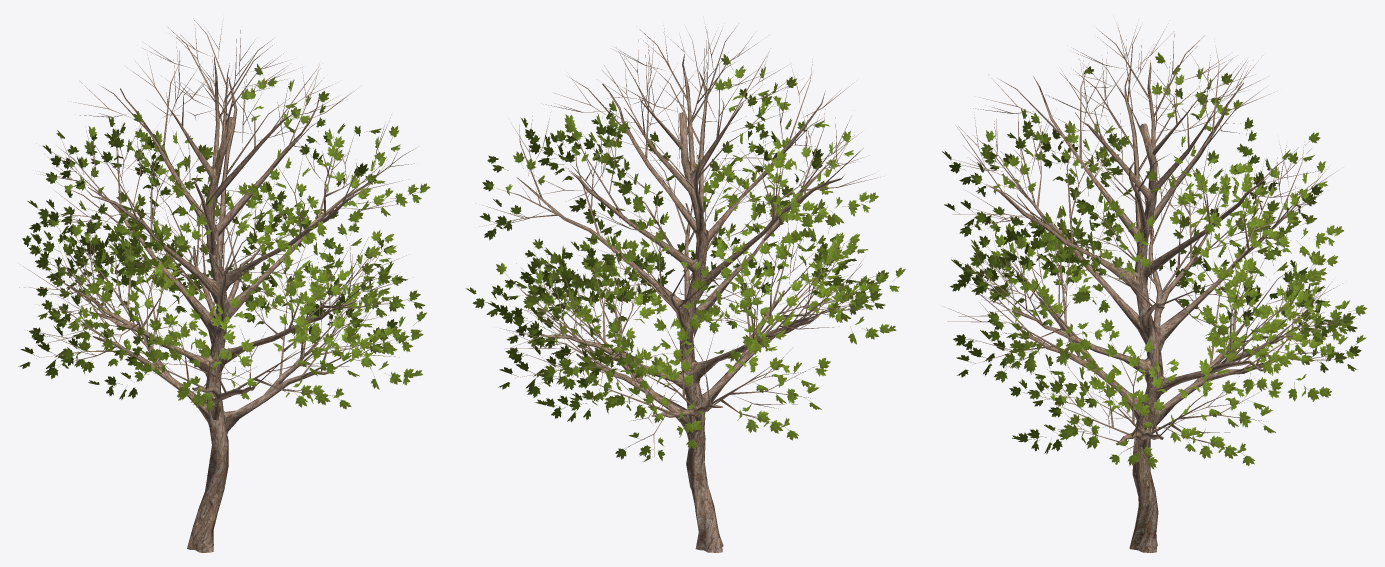
Rendered from maple.glb.
3 views of the same model, side by side, from view 1: azimuth 30°, elevation 25°; view 2: azimuth 150°, elevation 25°; view 3: azimuth 270°, elevation 25° (orthographic). The views are drawn at different scales.
Visible parts, largest first — view 1: Tree_1, Tree_0; view 2: Tree_1, Tree_0; view 3: Tree_1, Tree_0.
Part boxes in pixels (x1,y1,x2,y2): Tree_1: (18, 64, 430, 412); Tree_0: (19, 18, 415, 552); Tree_1: (465, 54, 905, 461); Tree_0: (479, 24, 883, 552); Tree_1: (942, 52, 1367, 469); Tree_0: (947, 25, 1356, 552).
Bounding box in the file's own units: 4.32 × 5.57 × 4.2.
Materials: 2 (2 with a texture image).
